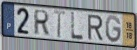2: (16, 7, 32, 36)
G: (104, 14, 122, 45)
L: (70, 10, 85, 41)
R: (33, 9, 51, 37), (87, 14, 104, 41)
T: (53, 9, 67, 39)
